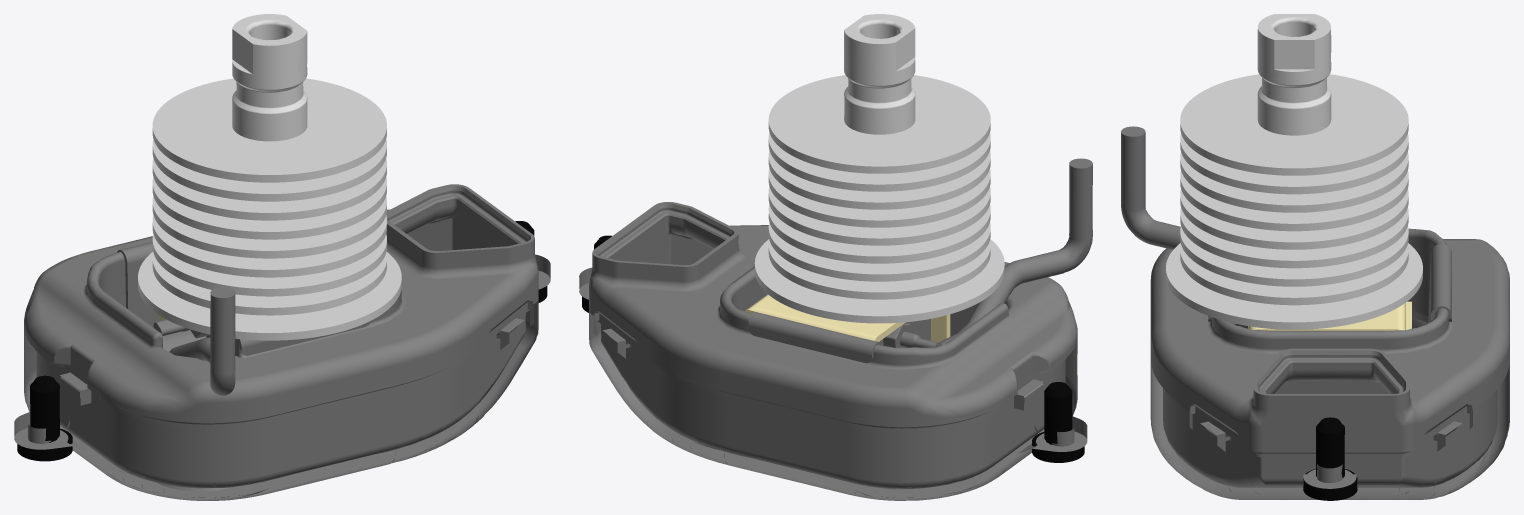
3 views of the same model, side by side, from view 1: azimuth 30°, elevation 25°; view 2: azimuth 150°, elevation 25°; view 3: azimuth 270°, elevation 25° (orthographic). The views are drawn at different scales.
Parts seen in each view (by area): view 1: Node; view 2: Node; view 3: Node.
Boxes of the visible parts, x1,y1,x2,y2 form: Node: (14,14,550,500); Node: (579,14,1092,500); Node: (1121,14,1509,500).
Bounding box in the file's own units: 2.87 × 2.23 × 1.88.
